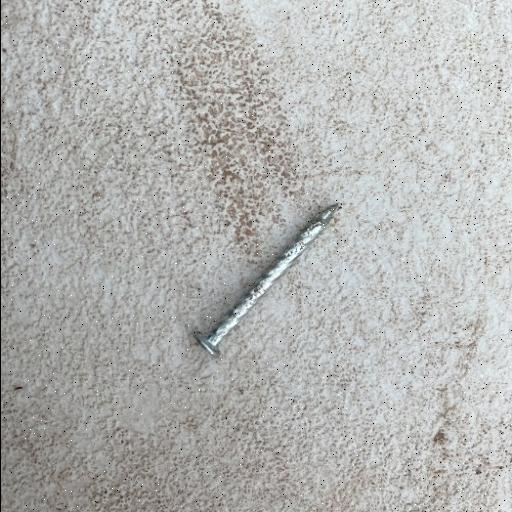Metal: (1, 0, 512, 511), (189, 199, 345, 359)
